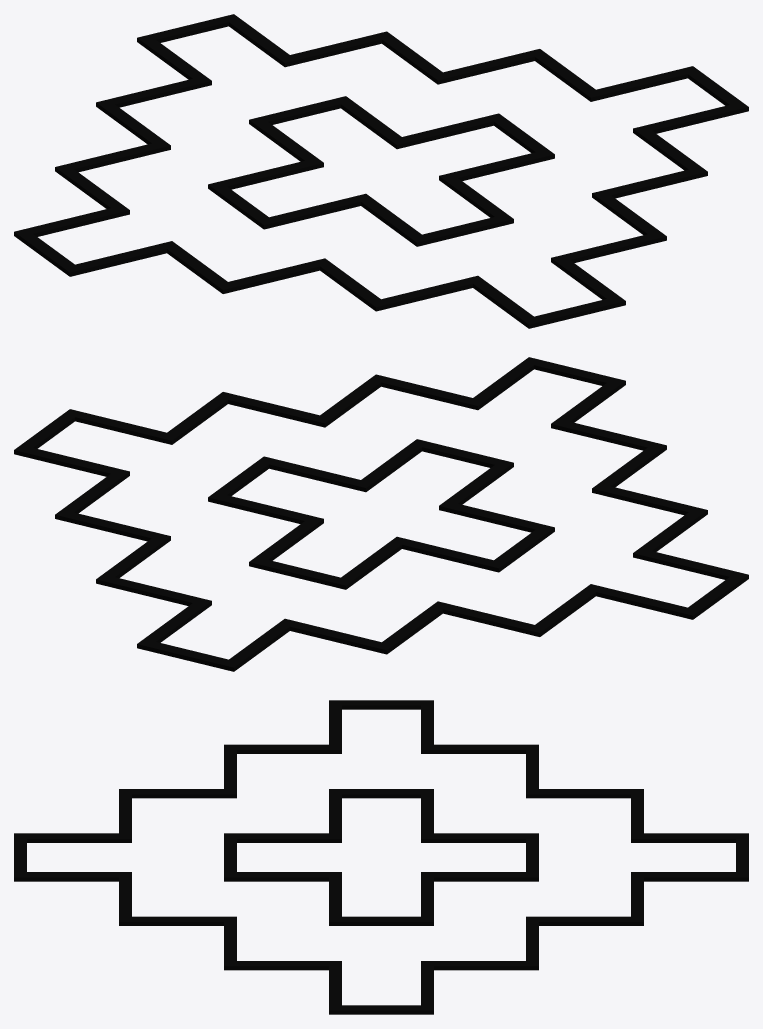
The model's file is Cursor_4.obj.
3 views of the same model, one above another, from view 1: azimuth 30°, elevation 25°; view 2: azimuth 150°, elevation 25°; view 3: azimuth 270°, elevation 25° (orthographic). The views are drawn at different scales.
Visible parts, largest first — view 1: Cursor-04; view 2: Cursor-04; view 3: Cursor-04.
Part boxes in pixels (left/top/right/bottom): Cursor-04: left=14, top=14, right=748, bottom=328; Cursor-04: left=14, top=357, right=748, bottom=671; Cursor-04: left=14, top=700, right=748, bottom=1014.
Size of the model in its own units: 16.8 by 0.1 by 16.8.
